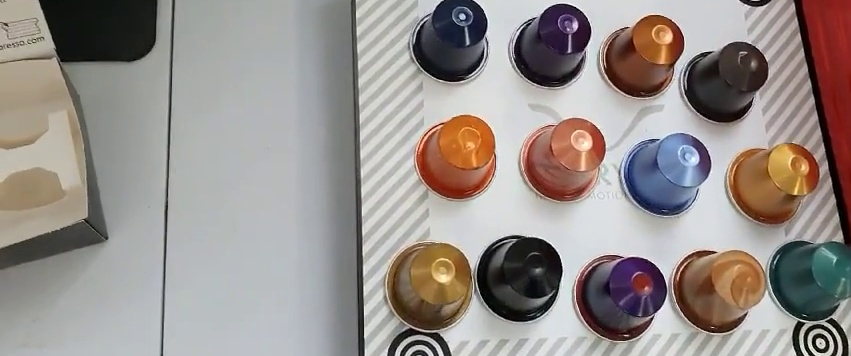capsule_1: (405, 4, 493, 85)
capsule_10: (474, 232, 564, 326)
capsule_11: (570, 250, 670, 340)
capsule_12: (674, 248, 767, 335)
capsule_13: (766, 240, 851, 324)
capsule_2: (510, 11, 590, 89)
capsule_3: (601, 11, 684, 101)
capsule_4: (682, 40, 772, 121)
capsule_5: (417, 114, 498, 199)
capsule_6: (524, 118, 606, 204)
capsule_7: (621, 132, 712, 215)
capsule_8: (726, 145, 819, 226)
capsule_9: (382, 239, 472, 335)
